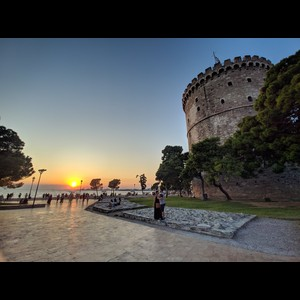White Tower: (179, 46, 293, 206)
